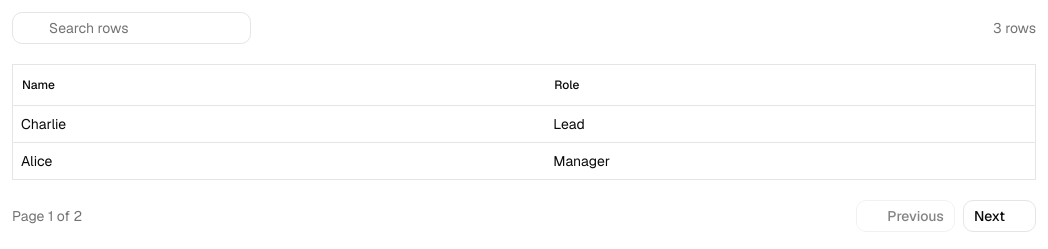
Scenario: DataTable › paginates visible rows
Click the button "Next": (999, 216) [963,200,1036,232]
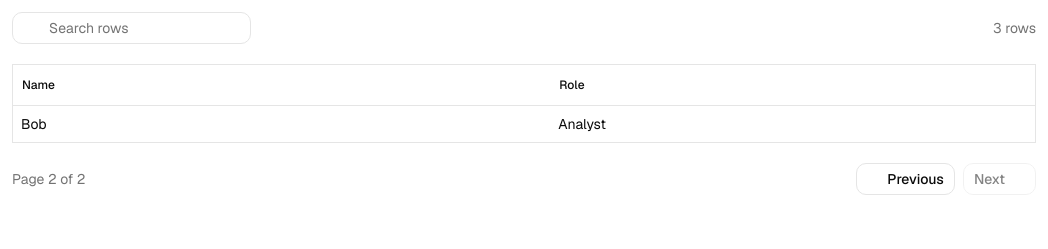
Expected: the text "Bob" is shown, [13,105,550,142]
Expected: the text "Charlie" is gone
Expected: the text "Page 2 of 2" is shown, [12,168,85,188]
